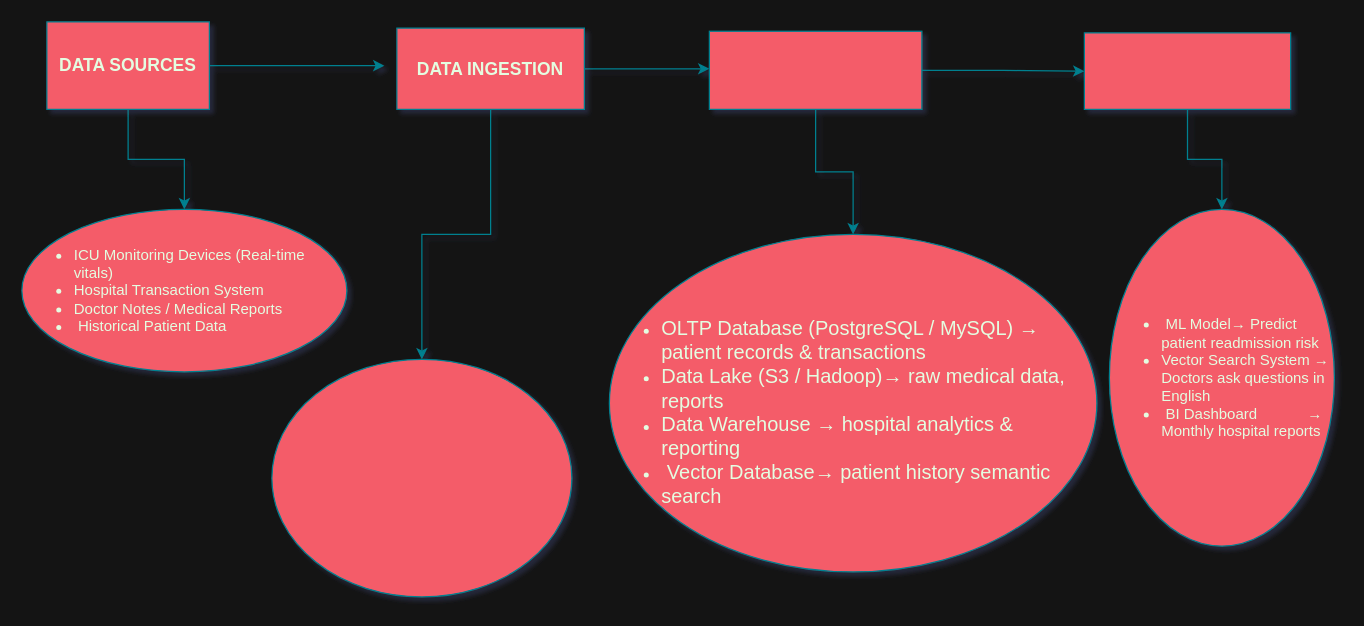
This 1364x626 diagram has some shape labels left out. Here are the shapes that lost their labels. From the top down, the box of each, then its label:
(708, 30, 922, 109): STORAGE LAYER
(1083, 32, 1291, 109): APPLICATION / AI LAYER
(271, 358, 572, 597): Streaming Pipeline (Kafka / Stream Processor) Batch ETL Pipeline
